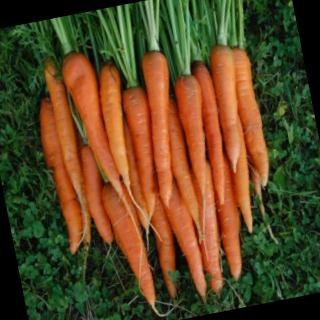Wortel: (60, 48, 127, 204), (133, 48, 196, 211), (206, 41, 263, 176), (120, 85, 173, 226), (172, 72, 223, 207), (94, 64, 140, 183)
